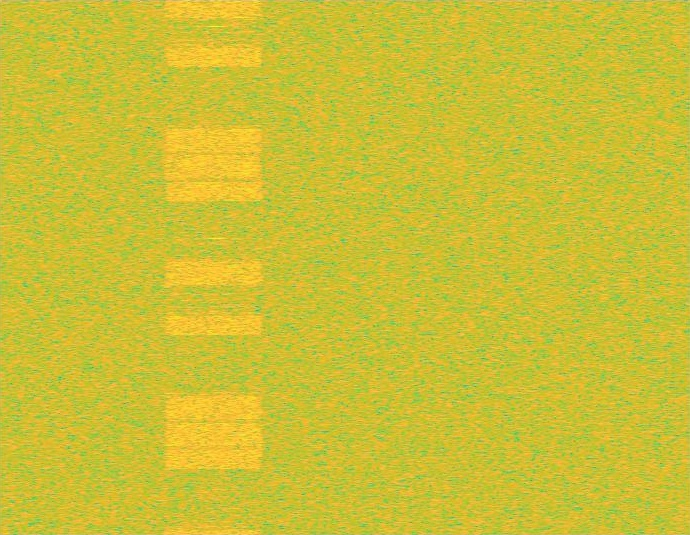LTE: (162, 0, 266, 534)
Radar: (210, 0, 223, 534)
